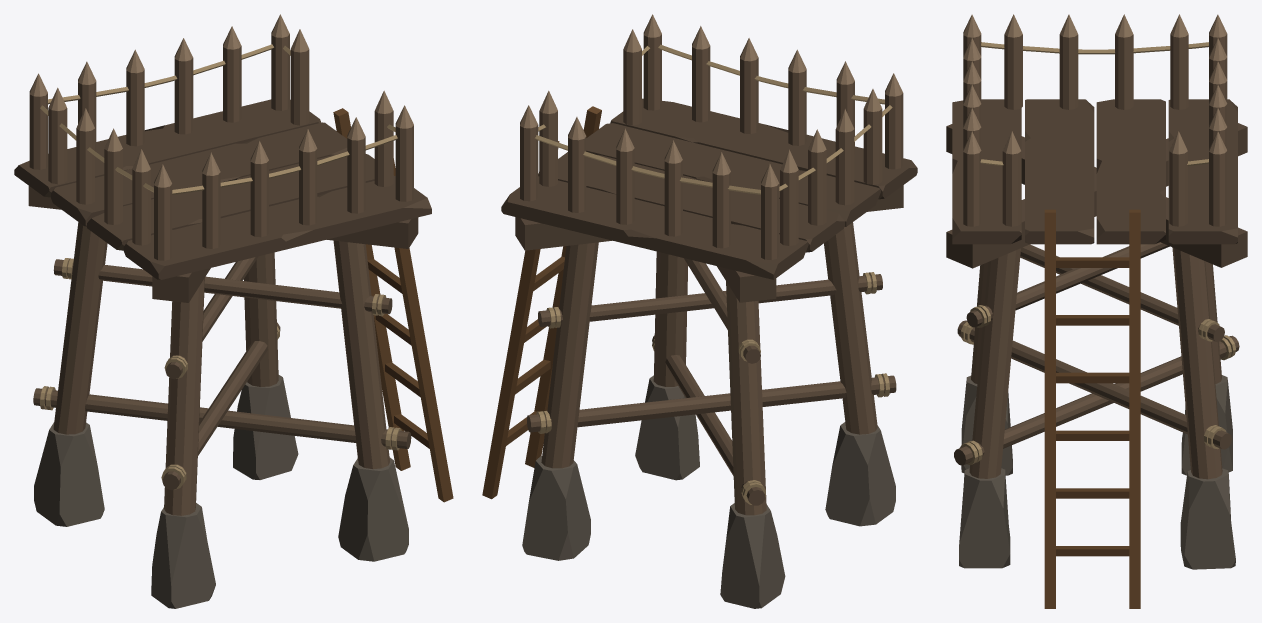
Rendered from towerplus.fbx.
The picture shows the model from 3 angles, left to right: view 1: azimuth 30°, elevation 25°; view 2: azimuth 150°, elevation 25°; view 3: azimuth 270°, elevation 25°; orthographic projection.
Parts seen in each view (by area): view 1: Cube.010, Cylinder.010, Cylinder.009, Cylinder.002, Cube.007, Cube.008, Cylinder.011, Cylinder.004, Cylinder.003, Cube.005, Cube.009, Cube.003 (+15 smaller); view 2: Cube.007, Cylinder.009, Cylinder.010, Cylinder.001, Cube.010, Cube.009, Cylinder.011, Cylinder.003, Cylinder.004, Cube.004, Cube.008, Cube.006 (+15 smaller); view 3: Cube.008, Cube.009, Cylinder.002, Cylinder.001, Cylinder.011, Cube.010, Cube.007, Cube.012, Cube, Cube.011, Cube.006, Cube.005 (+14 smaller).
Part boxes in pixels (x1,y1,x2,y2): Cube.010: (123, 176, 431, 279); Cylinder.010: (154, 105, 413, 260); Cylinder.009: (29, 14, 289, 169); Cylinder.002: (333, 240, 389, 469); Cube.007: (14, 99, 321, 197); Cube.008: (51, 122, 347, 226); Cylinder.011: (48, 87, 150, 245); Cylinder.004: (53, 222, 107, 434); Cylinder.003: (164, 278, 204, 515); Cube.005: (338, 457, 408, 561); Cube.009: (87, 153, 393, 250); Cube.003: (34, 422, 104, 526); Cube.007: (501, 176, 808, 279); Cylinder.009: (520, 105, 779, 259); Cylinder.010: (643, 14, 903, 169); Cylinder.001: (541, 242, 598, 468); Cube.010: (610, 98, 917, 199); Cube.009: (586, 123, 880, 226); Cylinder.011: (780, 89, 882, 245); Cylinder.003: (824, 222, 877, 434); Cylinder.004: (726, 281, 766, 515); Cube.004: (825, 422, 895, 526); Cube.008: (538, 152, 844, 252); Cube.006: (522, 456, 590, 560); Cube.008: (1096, 99, 1165, 244); Cube.009: (1025, 99, 1094, 244); Cylinder.002: (969, 248, 1020, 478); Cylinder.001: (1172, 247, 1222, 479); Cylinder.011: (1004, 14, 1188, 109); Cube.010: (952, 99, 1021, 244); Cube.007: (1168, 99, 1237, 244); Cube.012: (1056, 257, 1129, 556); Cube: (1129, 209, 1140, 608); Cube.011: (1044, 209, 1055, 608); Cube.006: (1180, 468, 1235, 569); Cube.005: (959, 468, 1010, 568).
Bounding box in the file's own units: 978 × 1213 × 756.
